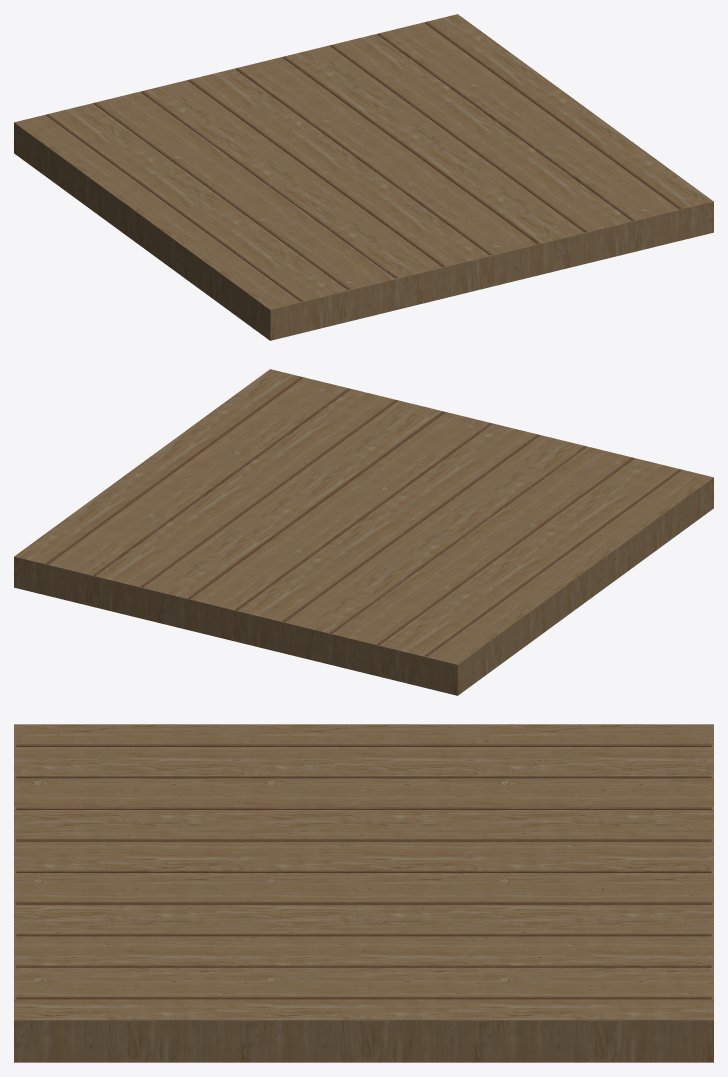
File: build_floor.glb
The picture shows the model from 3 angles, top to bottom: view 1: azimuth 30°, elevation 25°; view 2: azimuth 150°, elevation 25°; view 3: azimuth 270°, elevation 25°; orthographic projection. The views are drawn at different scales.
Visible parts, largest first — view 1: floor; view 2: floor; view 3: floor.
Part boxes in pixels (box(x1,y1,x2,y2)): floor: box(14, 14, 713, 340); floor: box(14, 369, 713, 695); floor: box(14, 724, 713, 1062).
Bounding box in the file's own units: 3 × 0.205 × 3.
2 materials, 2 textured.
